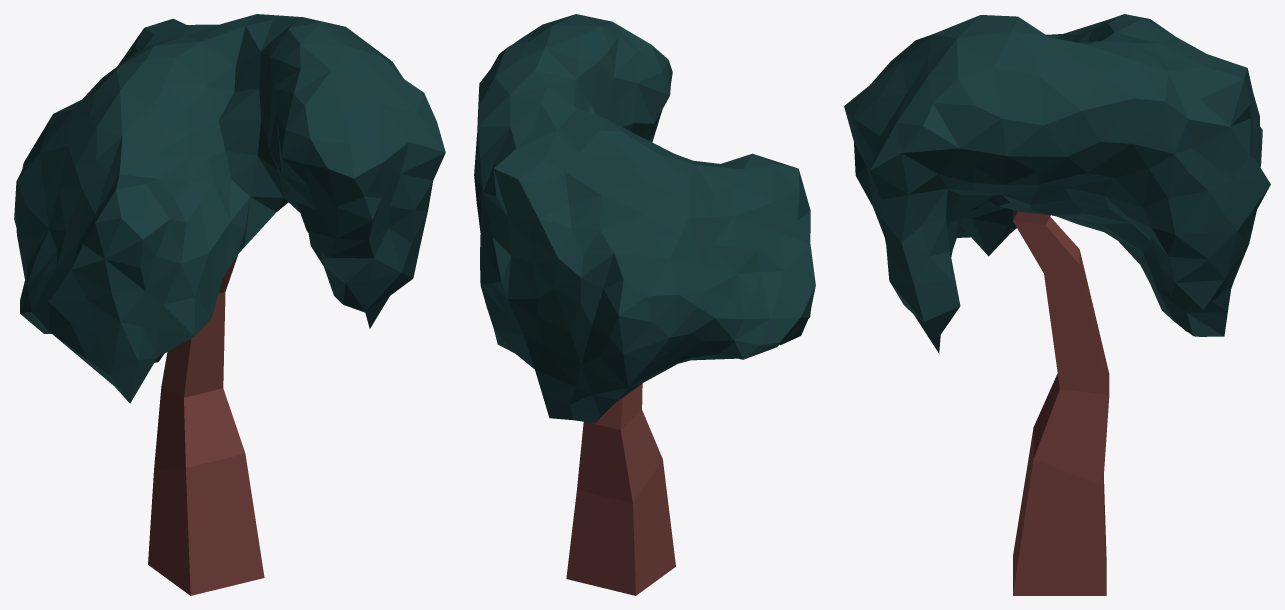
File: TreePackage.fbx_Tree_005.fbx
3 views of the same model, side by side, from view 1: azimuth 30°, elevation 25°; view 2: azimuth 150°, elevation 25°; view 3: azimuth 270°, elevation 25° (orthographic). The views are drawn at different scales.
Visible parts, largest first — view 1: Sphere.001, Circle; view 2: Sphere.001, Circle; view 3: Sphere.001, Circle.
Boxes of the visible parts, box(x1,y1,x2,y2) form: Sphere.001: box(14, 14, 445, 403); Circle: box(148, 255, 264, 595); Sphere.001: box(474, 14, 815, 423); Circle: box(566, 383, 675, 595); Sphere.001: box(844, 14, 1270, 353); Circle: box(1013, 210, 1109, 595).
Size of the model in its own units: 362 by 549 by 357.
